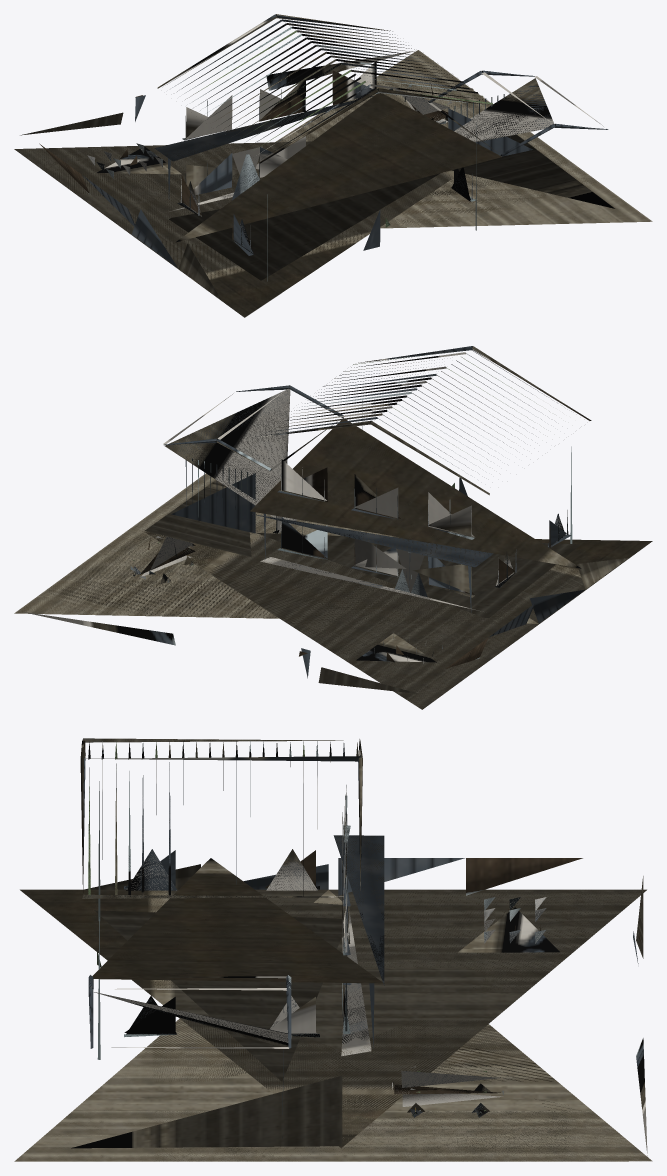
File: rural_house_001.lod2.obj
3 views of the same model, one above another, from view 1: azimuth 30°, elevation 25°; view 2: azimuth 150°, elevation 25°; view 3: azimuth 270°, elevation 25° (orthographic). The views are drawn at different scales.
Visible parts, largest first — view 1: rural_house_001; view 2: rural_house_001; view 3: rural_house_001.
Part boxes in pixels (x1,y1,x2,y2): rural_house_001: [14, 14, 652, 317]; rural_house_001: [14, 346, 652, 709]; rural_house_001: [14, 738, 652, 1161].
Size of the model in its own units: 20 by 8.26 by 20.
Materials: 1 (1 with a texture image).
